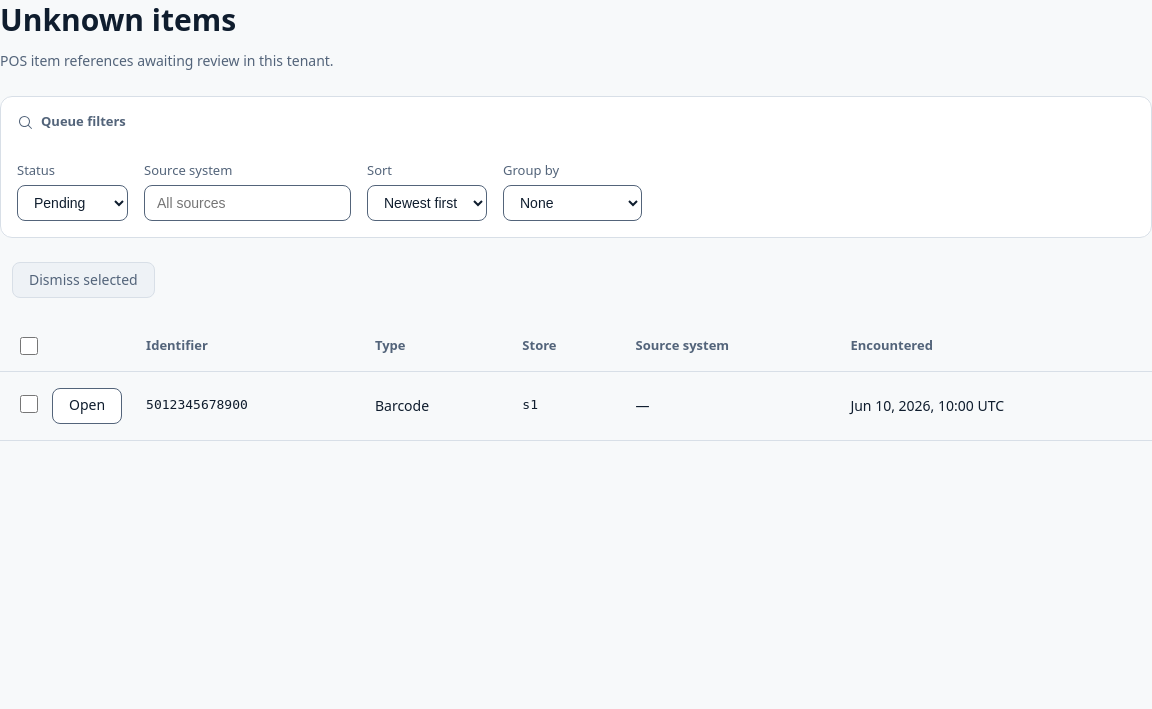
Scenario: create product from an unknown item › empty fields are caught before any request
What coordinates should you click on to do the following:
click the button with aria-label "Open 5012345678900"
I would click on:
 (87, 406)
Its box is 52,388 -> 122,424.
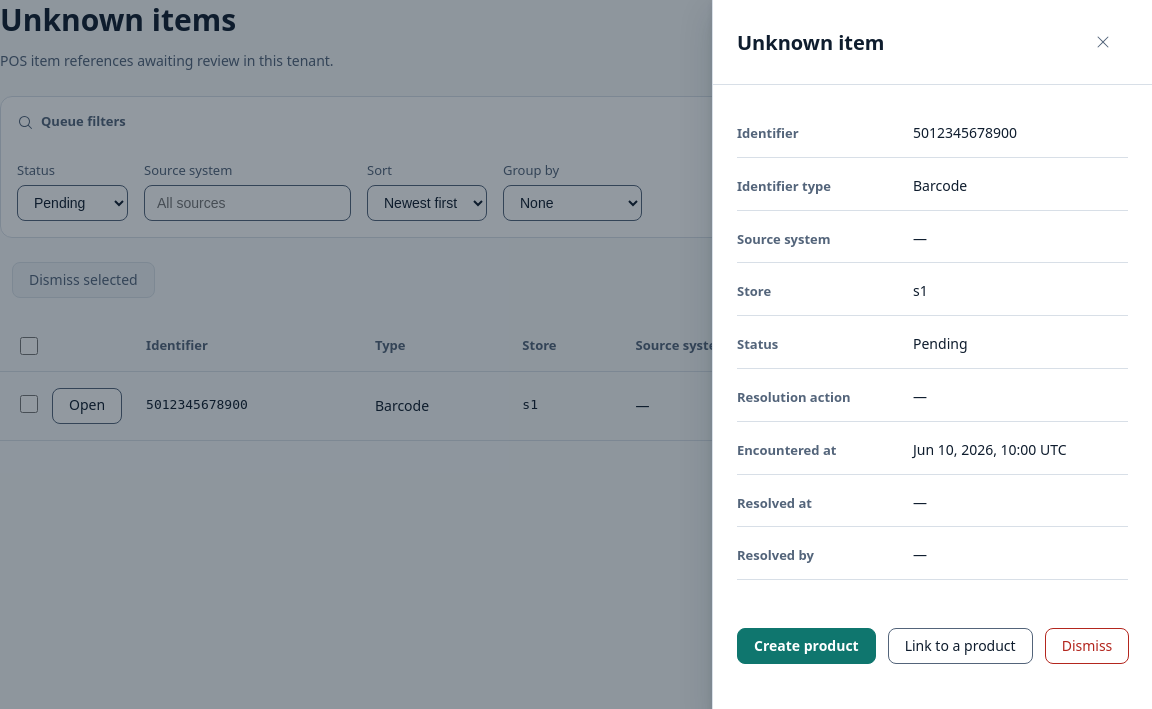
Check: the dialog "Unknown item" shows "Identifier type", box 737,177 -> 831,195
What coordinates should you click on to do the following:
click the button "Create product"
I would click on:
 (806, 646)
Its box is 737,628 -> 876,664.
(page scrolled)
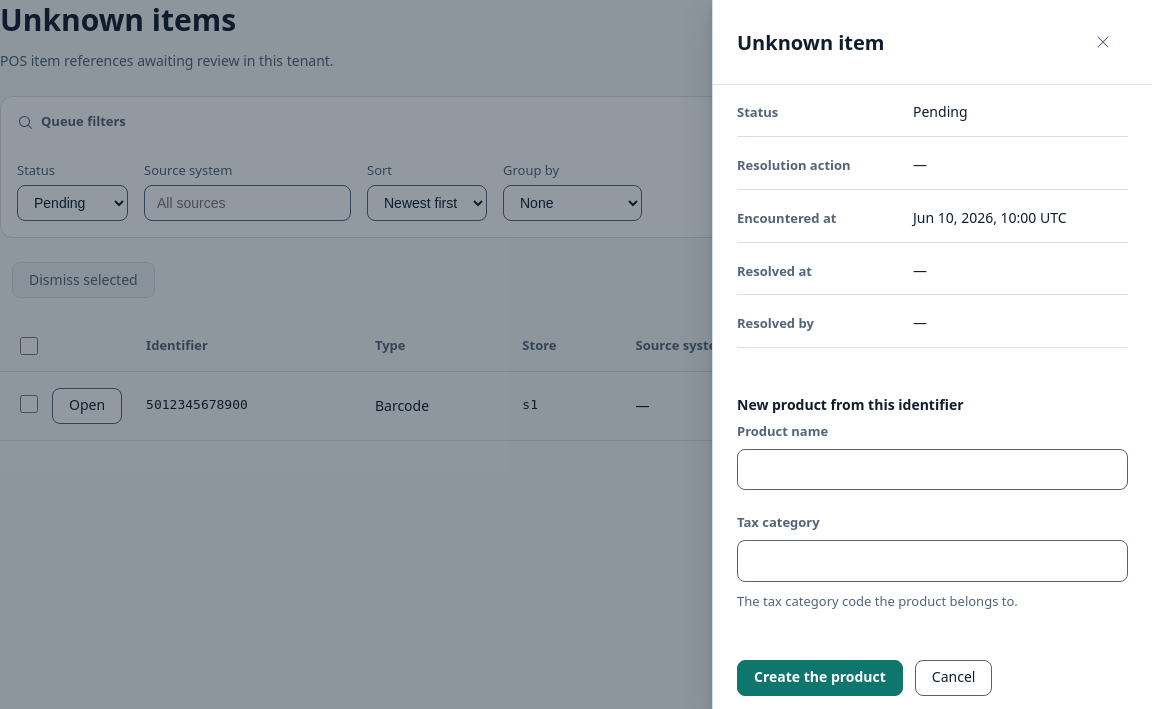
What coordinates should you click on to do the following:
click the button "Create the product"
I would click on:
 (820, 678)
Its box is 737,660 -> 903,696.
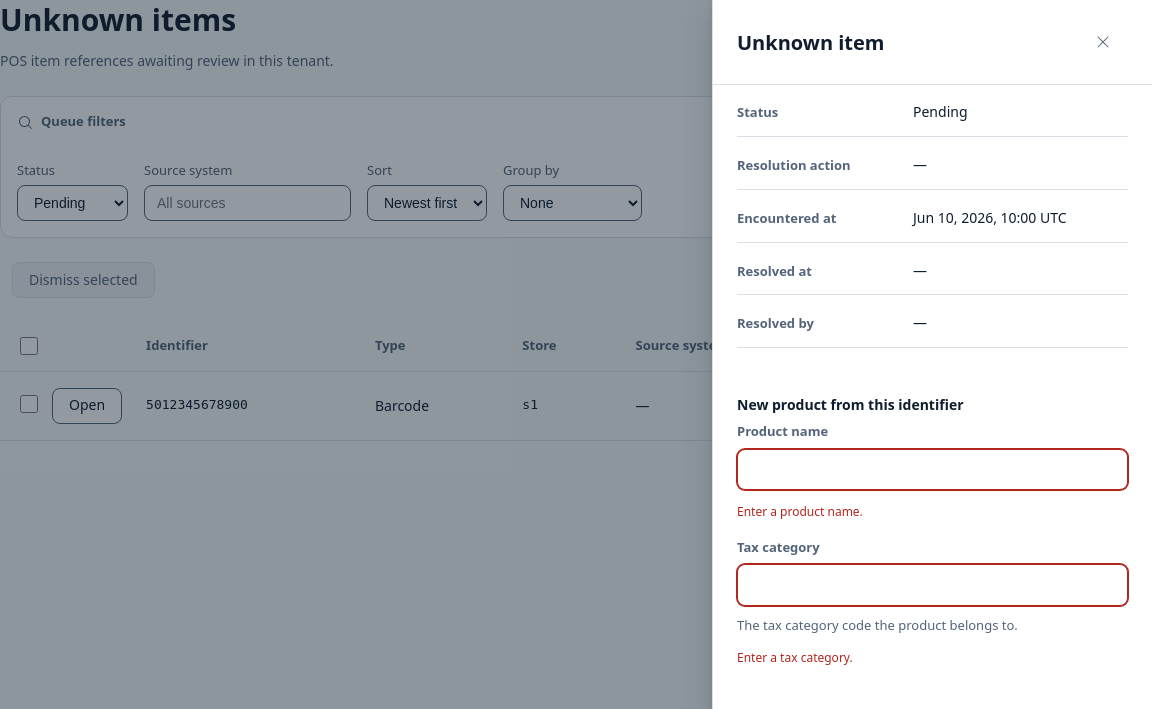
Check: the text "Enter a product name." is shown, box 737,503 -> 863,520
Check: the text "Enter a tax category." is shown, box 737,649 -> 853,666
